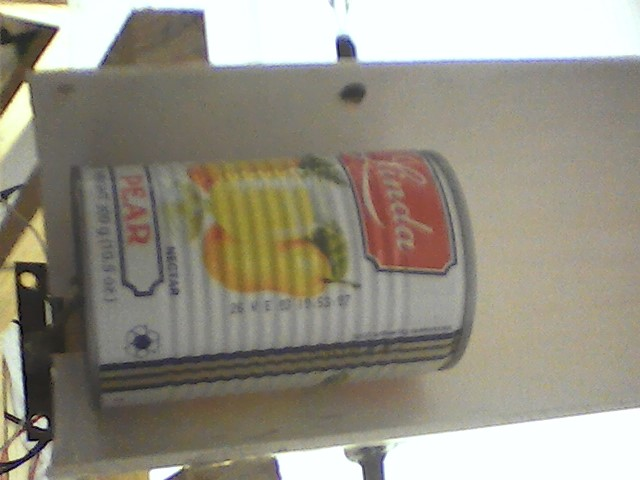lata: (67, 143, 483, 414)
